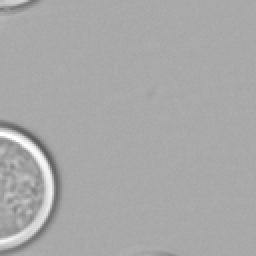picoshell: (0, 122, 58, 252)
